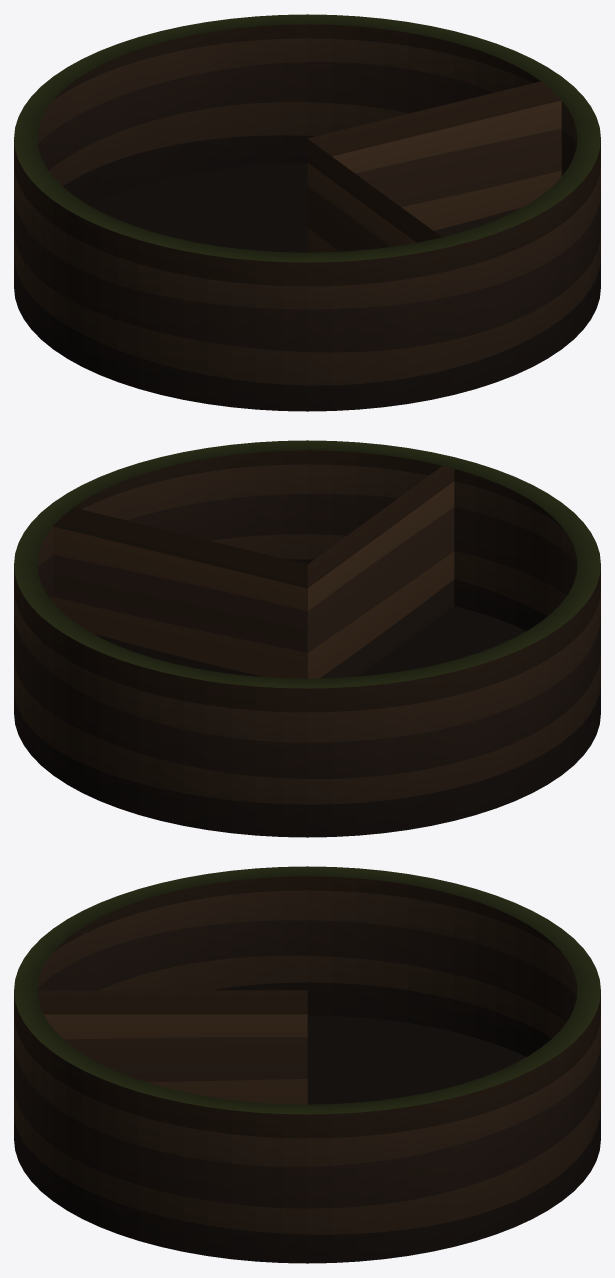
Rendered from terrain.obj.
The picture shows the model from 3 angles, top to bottom: view 1: azimuth 30°, elevation 25°; view 2: azimuth 150°, elevation 25°; view 3: azimuth 270°, elevation 25°; orthographic projection.
Visible parts, largest first — view 1: terrain; view 2: terrain; view 3: terrain.
Boxes of the visible parts, left/top/right/bottom form: terrain: left=14, top=14, right=600, bottom=411; terrain: left=14, top=440, right=600, bottom=837; terrain: left=14, top=866, right=600, bottom=1263.
Size of the model in its own units: 2 by 0.56 by 2.
